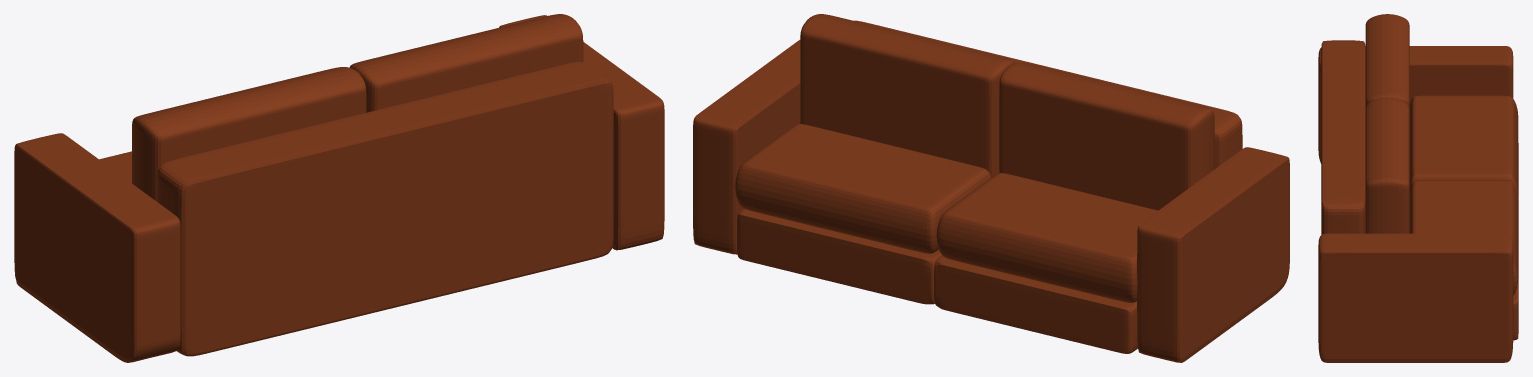
Rendered from couch.fbx.
The picture shows the model from 3 angles, left to right: view 1: azimuth 30°, elevation 25°; view 2: azimuth 150°, elevation 25°; view 3: azimuth 270°, elevation 25°; orthographic projection. The views are drawn at different scales.
Visible parts, largest first — view 1: Couch; view 2: Couch; view 3: Couch.
Boxes of the visible parts, x1=… form: Couch: x1=14, y1=14, x2=664, y2=362; Couch: x1=693, y1=14, x2=1289, y2=362; Couch: x1=1318, y1=14, x2=1518, y2=362.
Bounding box in the file's own units: 1.05 × 0.4286 × 0.3913.
